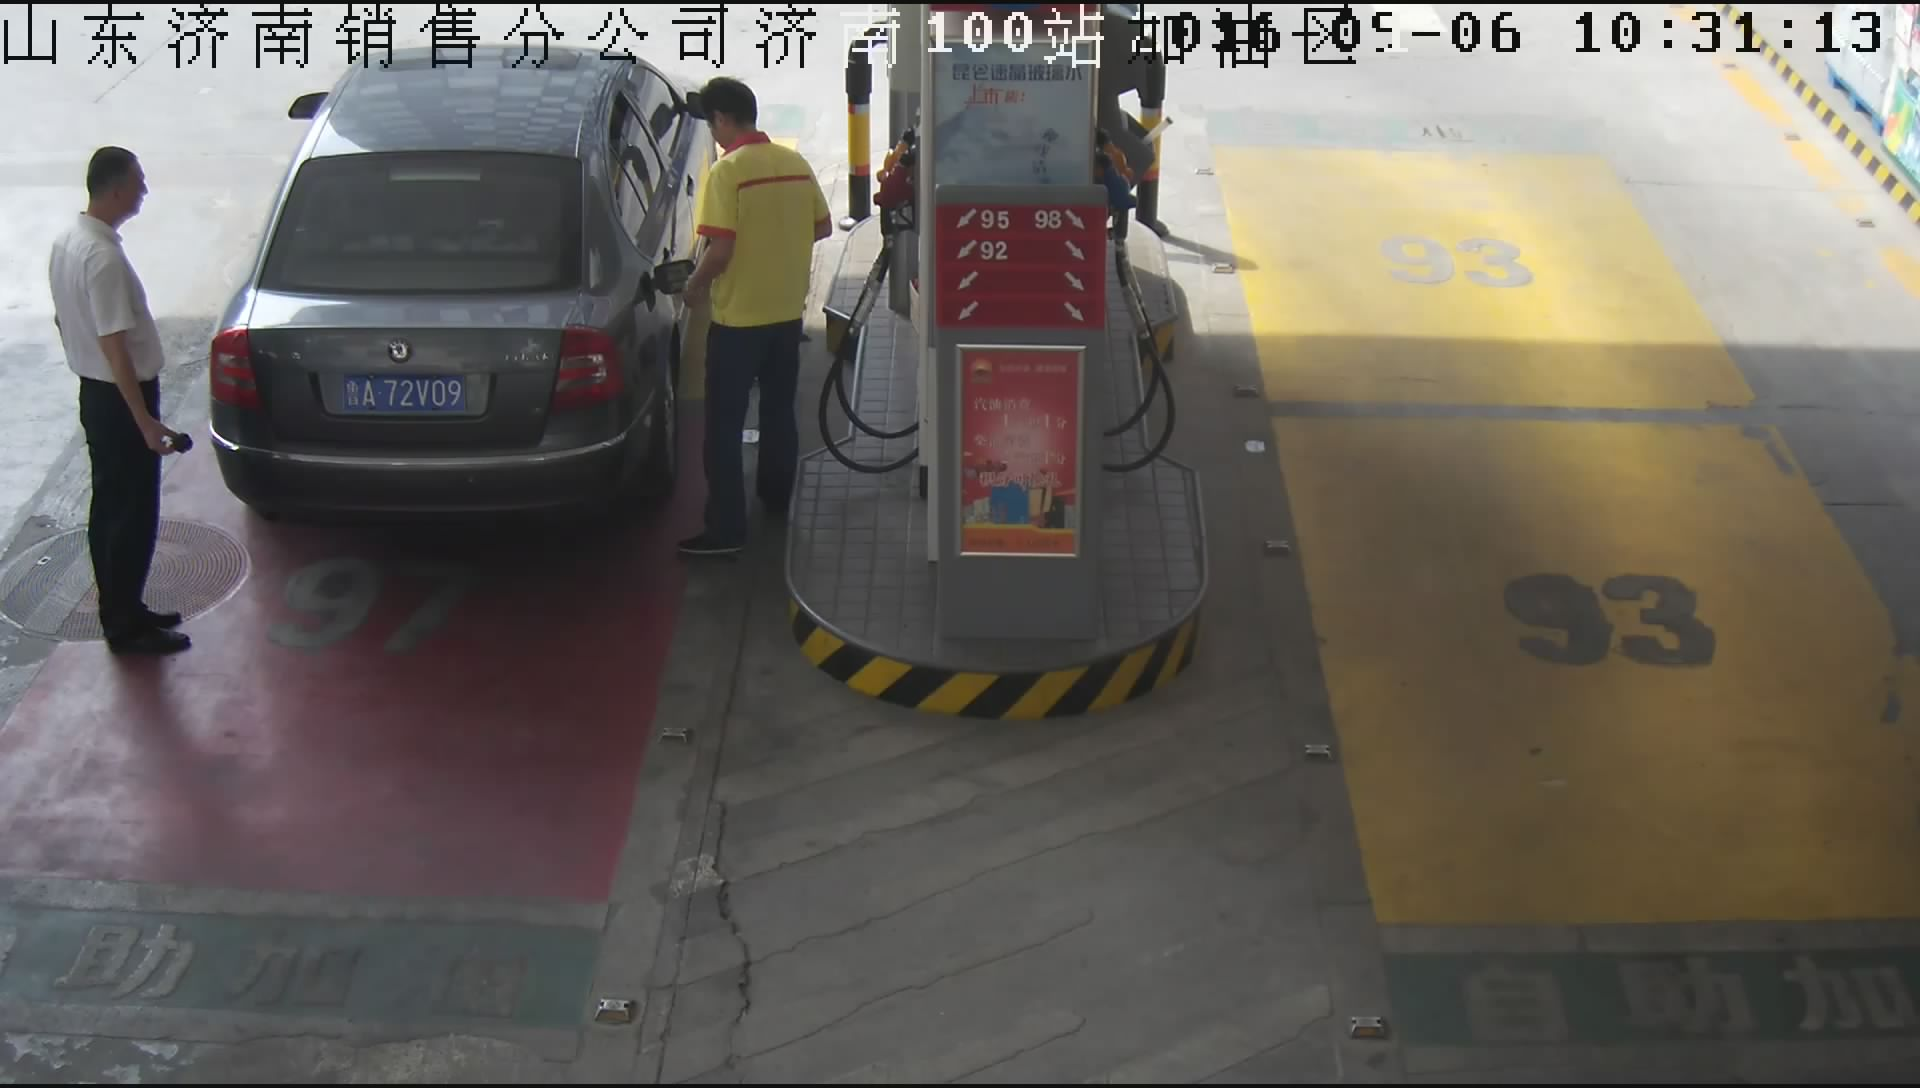blue: (340, 371, 471, 418)
